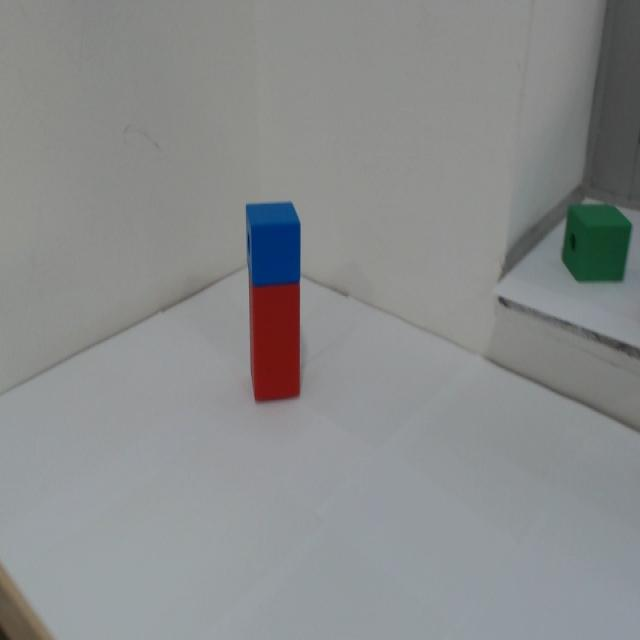cube: (231, 193, 317, 284)
